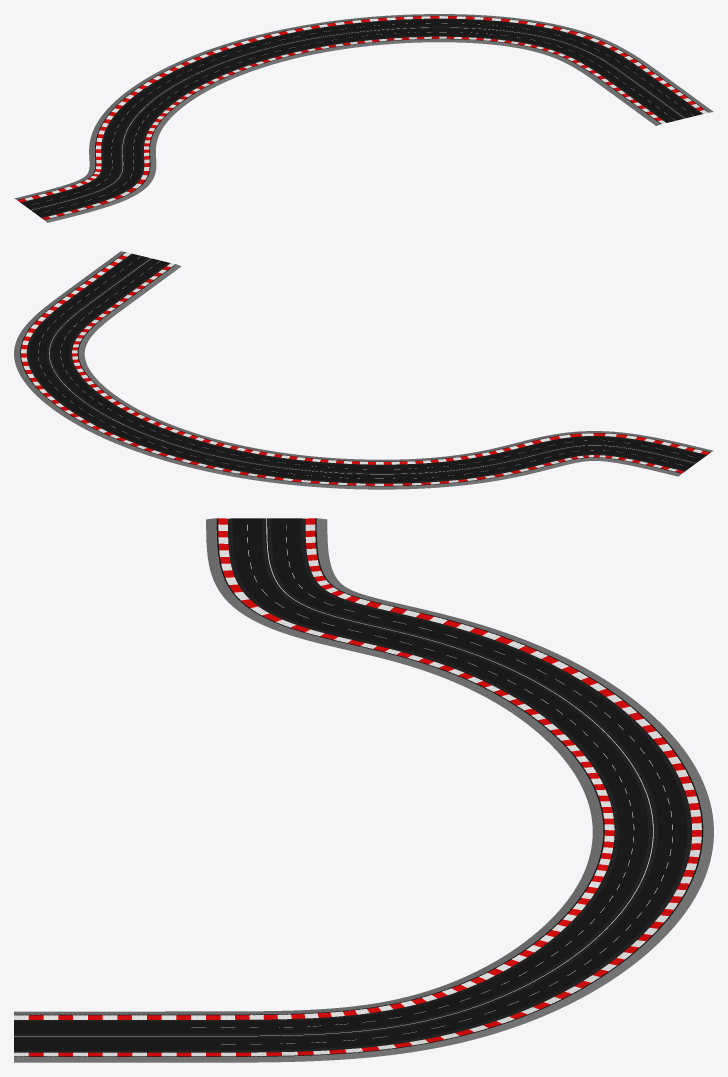
The model's file is S0.3c3h0-ear.glb.
3 views of the same model, one above another, from view 1: azimuth 30°, elevation 25°; view 2: azimuth 150°, elevation 25°; view 3: azimuth 270°, elevation 25° (orthographic). The views are drawn at different scales.
Parts seen in each view (by area): view 1: Grid; view 2: Grid; view 3: Grid.
Boxes of the visible parts, <box> form: Grid: <box>14,14,713,222</box>; Grid: <box>14,251,713,489</box>; Grid: <box>14,518,713,1062</box>.
Bounding box in the file's own units: 265 × 0.31 × 144.
